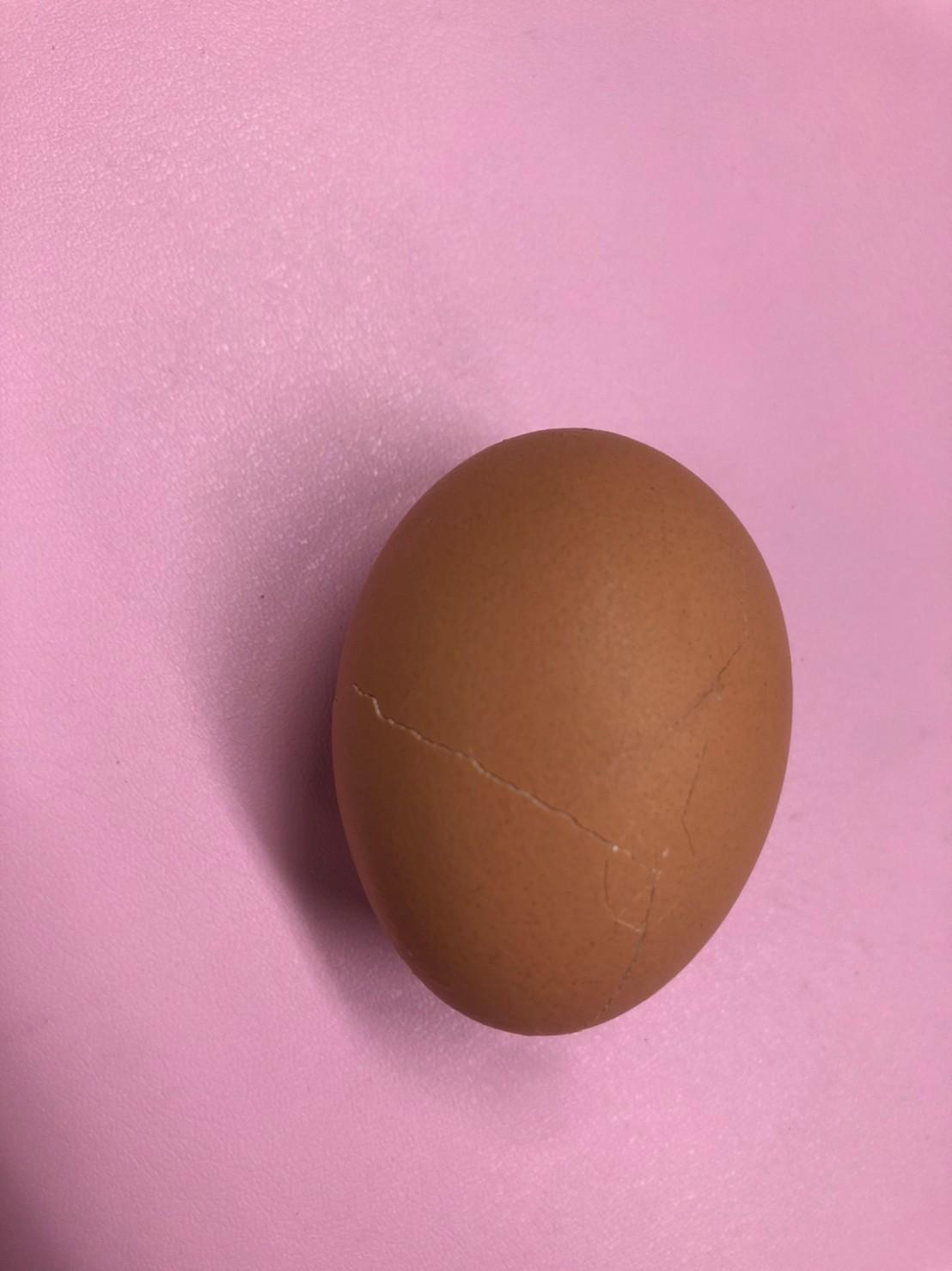egg: (323, 420, 804, 1044)
